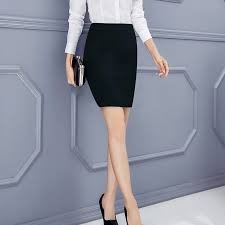F_tailored skirt: (80, 19, 147, 112)
